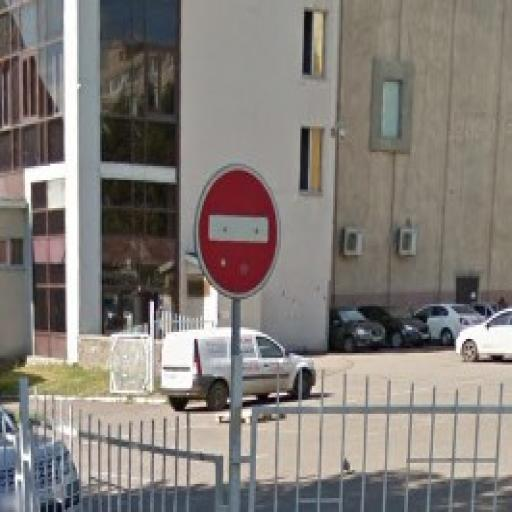traffic_sign: (192, 160, 282, 303)
